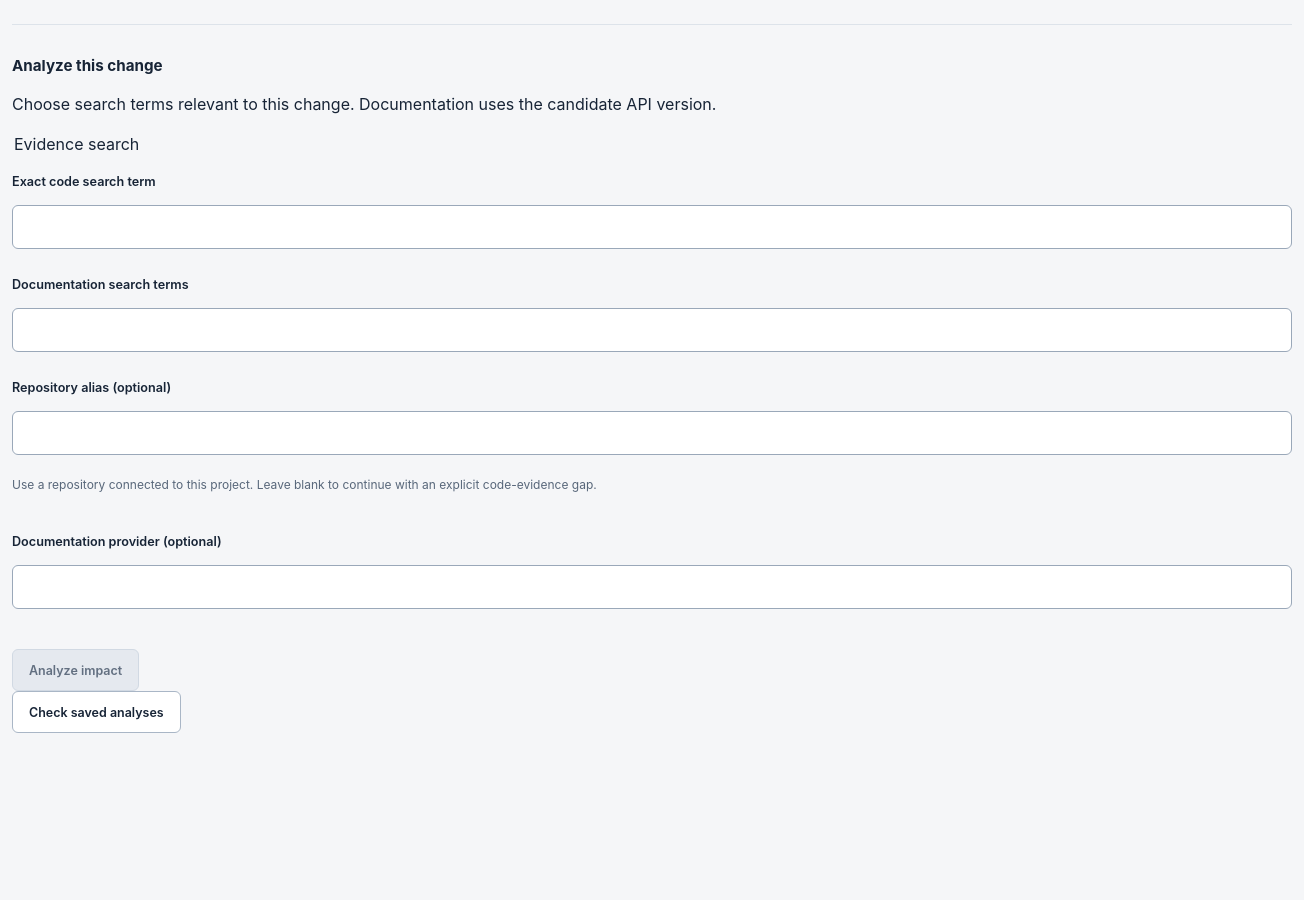
Test case: submits the selected stable IDs once and confirms escaped partial results
expect the button "Analyze impact" is disabled: met, box left=12, top=649, right=139, bottom=691
Type "full_name" into the field labelled "Exact code search term". click: (652, 227)
box: left=12, top=205, right=1292, bottom=249
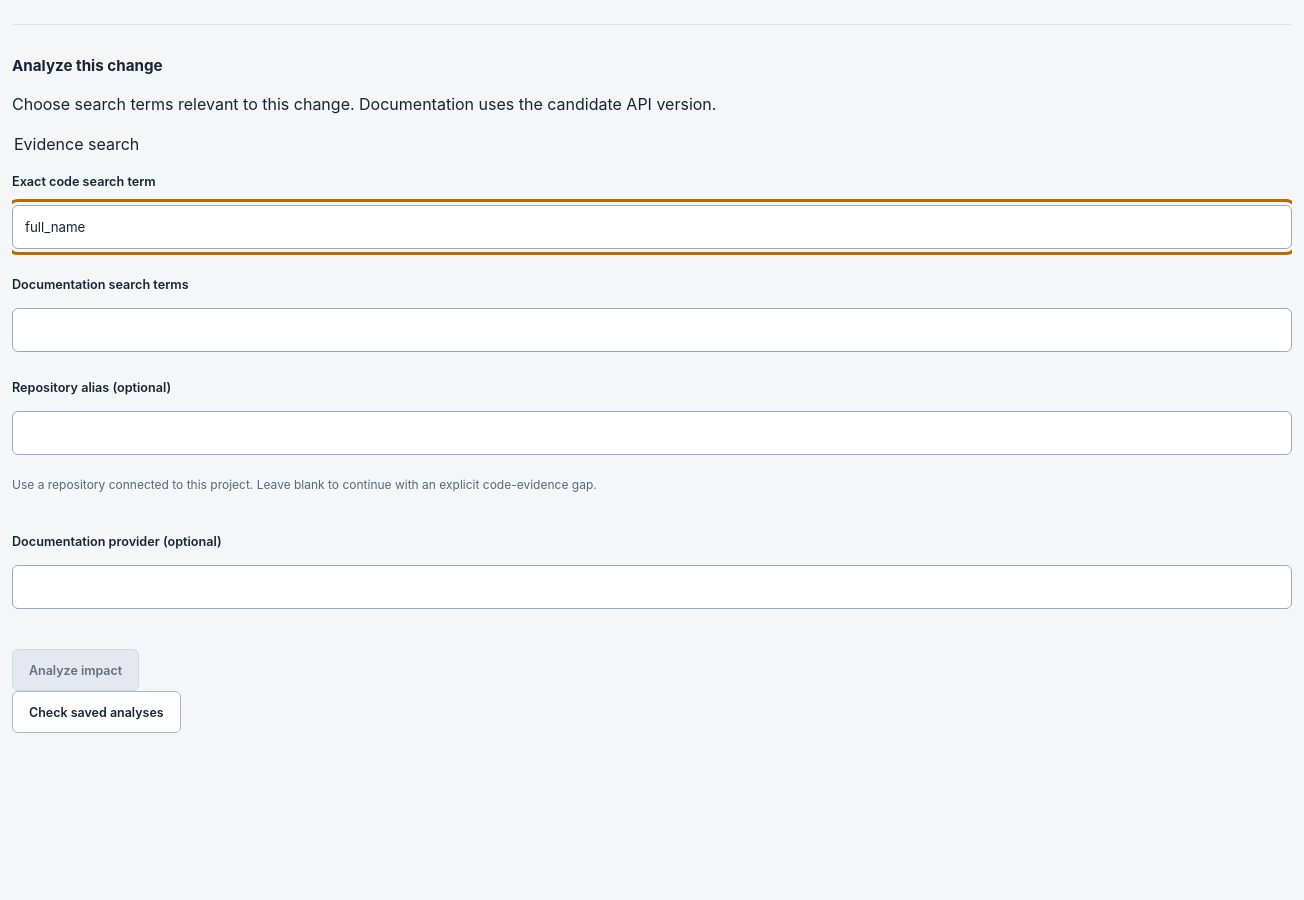
Type "customer migration" into the field labelled "Documentation search terms". click: (652, 330)
box: left=12, top=308, right=1292, bottom=352
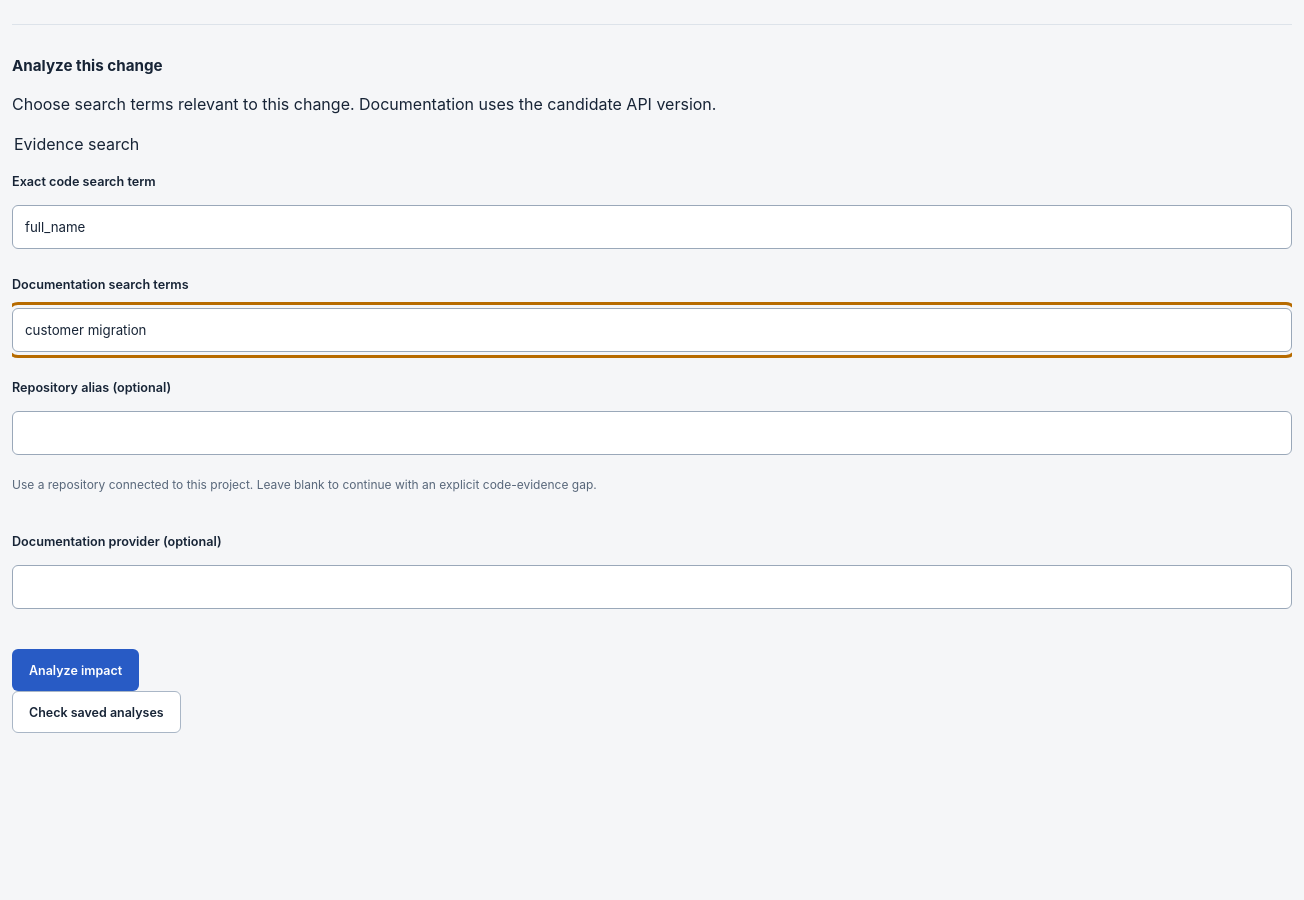
Type "consumer" into the field labelled "Repository alias (optional)". click: (652, 433)
box: left=12, top=411, right=1292, bottom=455
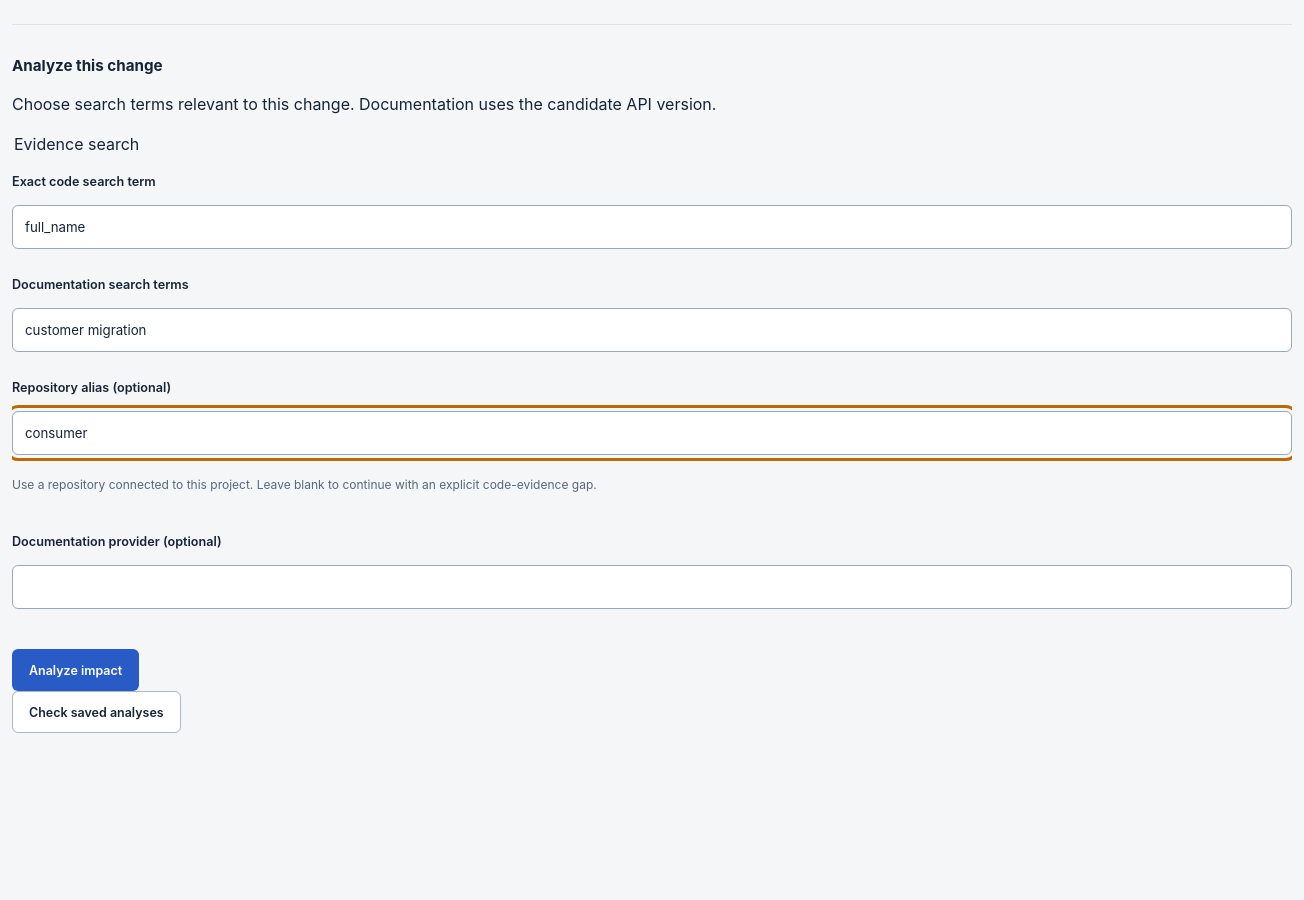
Double-click the button "Analyze impact" at (76, 670), box left=12, top=649, right=139, bottom=691
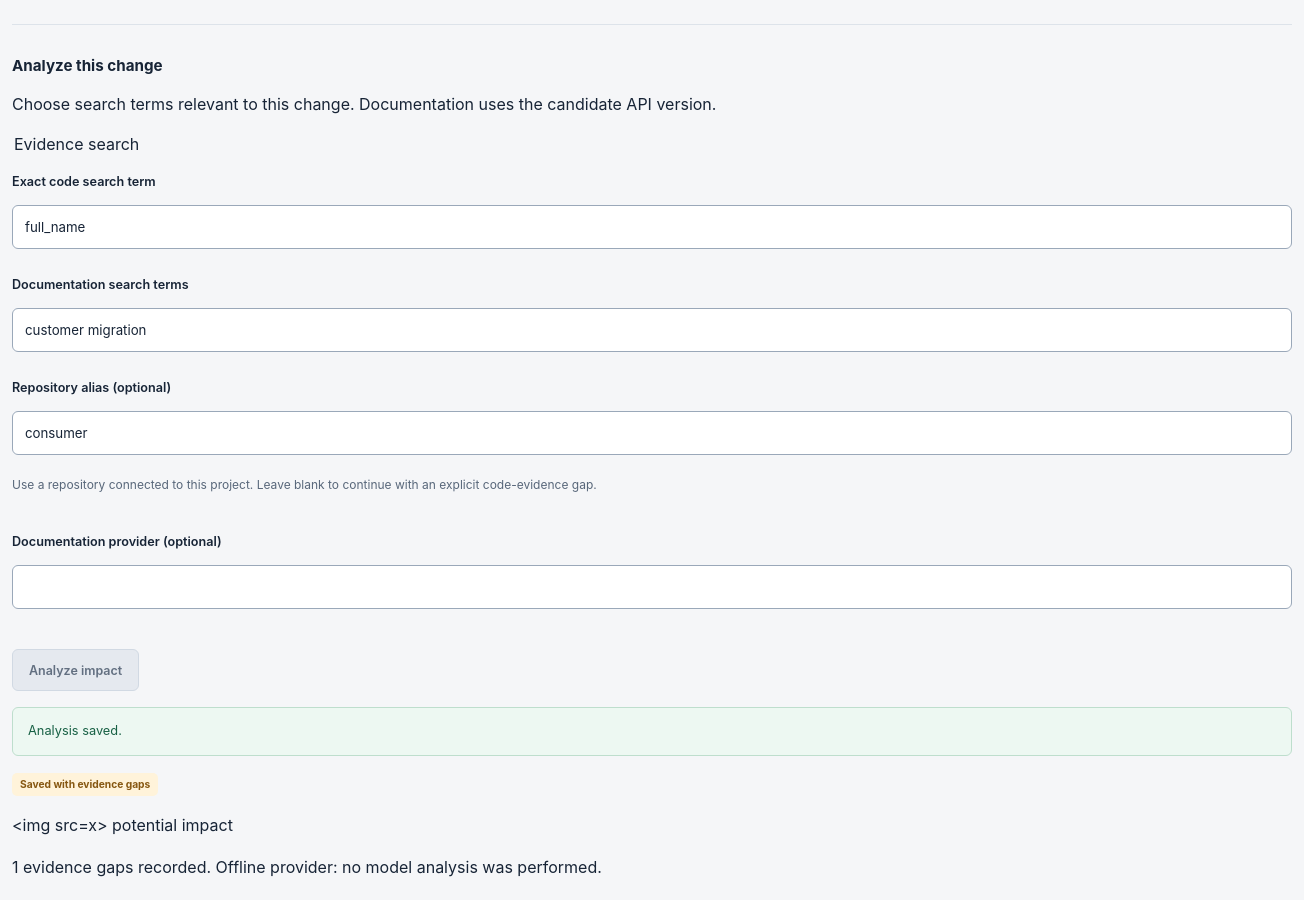
expect the element labelled "Exact code search term" is disabled: met, box left=12, top=134, right=1292, bottom=609
expect the text "Analysis saved." is shown: met, box left=12, top=707, right=1292, bottom=756
expect the text "Saved with evidence gaps" is shown: met, box left=12, top=773, right=158, bottom=796
